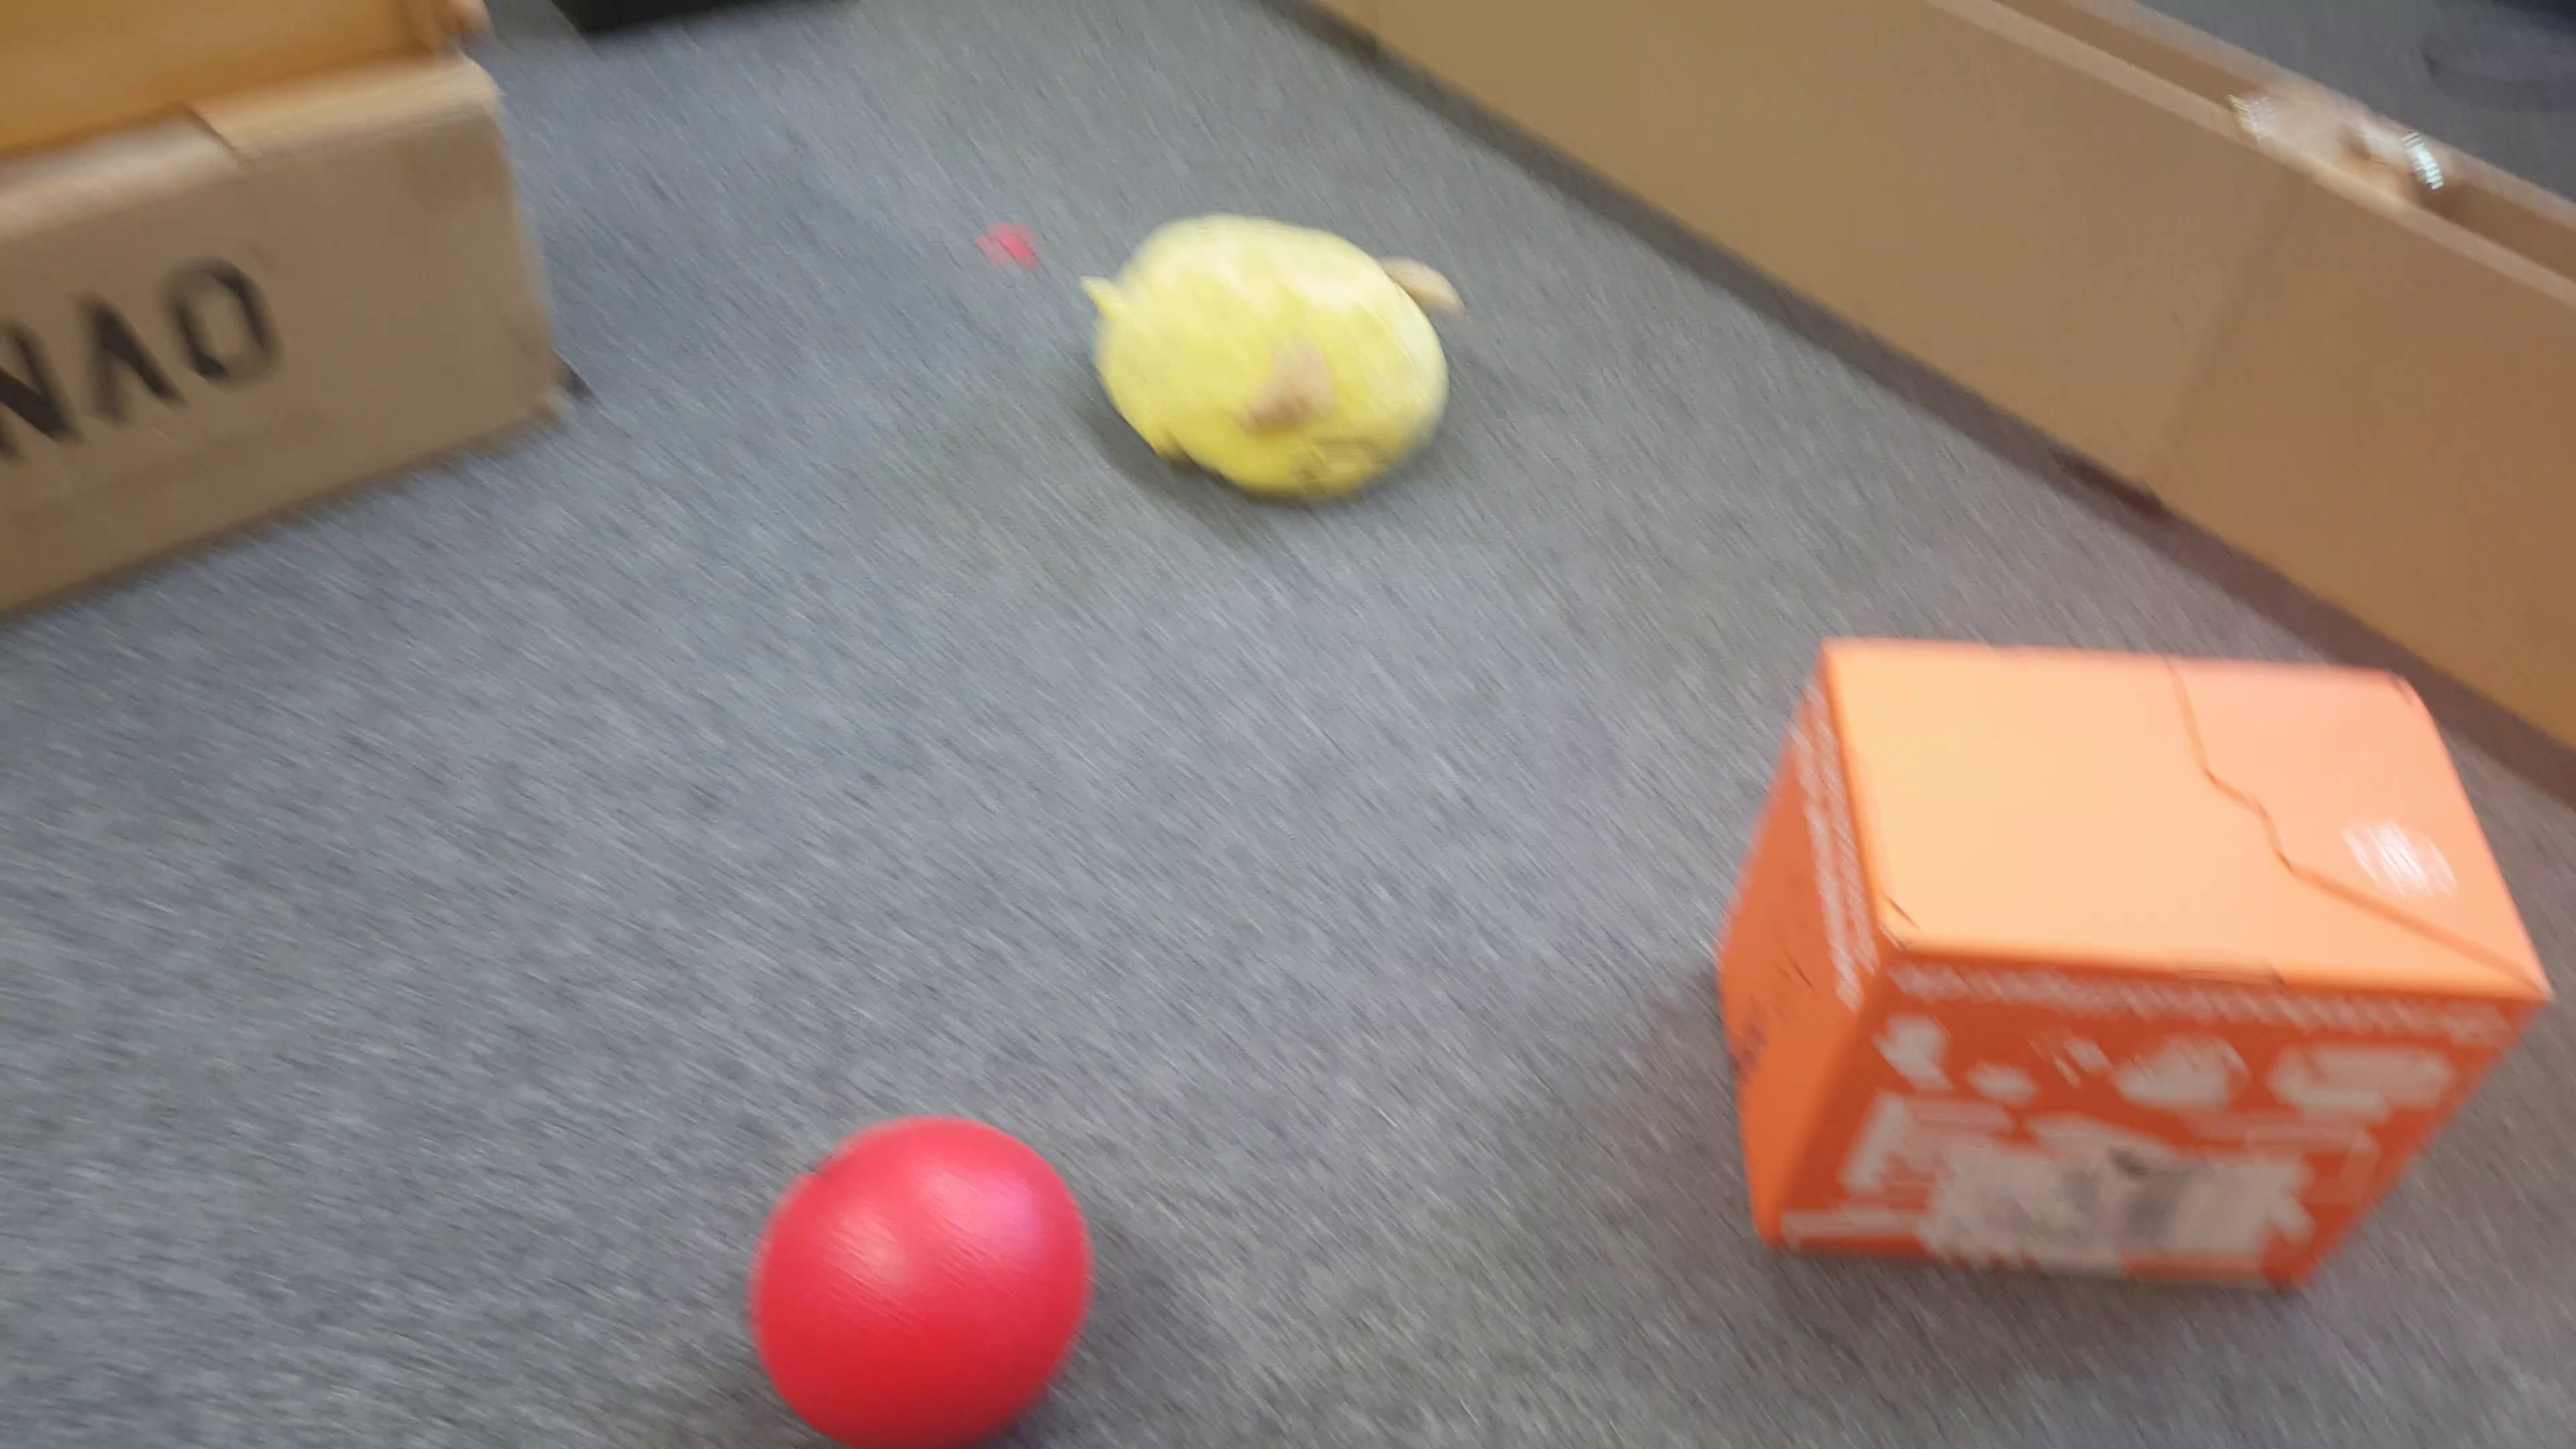grasp: (1074, 214, 1451, 511)
kick: (745, 1108, 1088, 1442)
push: (1704, 625, 2544, 1322)
